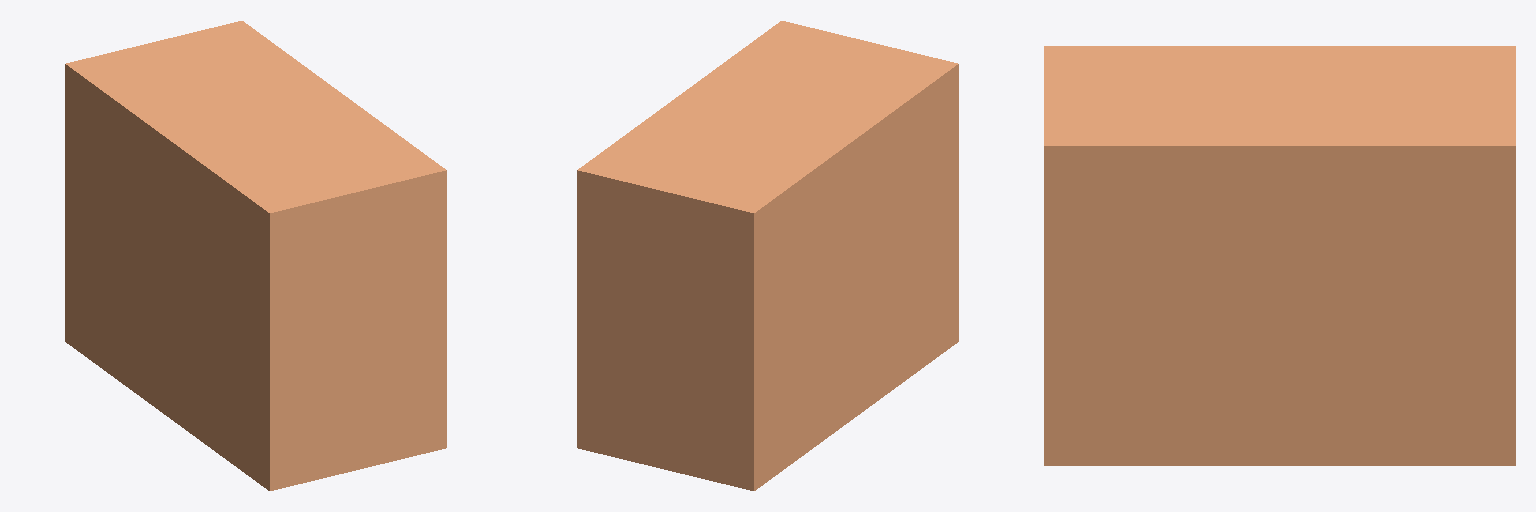
robot.urdf — montessori_object_5:
<?xml version="1.0" ?>
<robot name="montessori_object_5" version="1.0">
  <link name="montessori_object_5">
    <inertial>
      <origin xyz="0.0 0.0 0.0" rpy="0.0 0.0 0.0"/>
      <mass value="0.024000000208616257"/>
      <inertia ixx="4.999999873689376e-06" ixy="0.0" ixz="0.0" iyy="2.6000000161729986e-06" iyz="0.0" izz="3.999999989900971e-06"/>
    </inertial>
    <visual name="MontessoriObject5">
      <origin xyz="0.0 0.0 0.0" rpy="0.0 0.0 0.0"/>
      <geometry>
        <box size="0.019999999552965164 0.03999999910593033 0.029999999329447746"/>
      </geometry>
      <material name="MontessoriObject5_material">
        <color rgba="0.99 0.73 0.55 1.0"/>
      </material>
    </visual>
  </link>
</robot>

--- Render facts (derived) ---
The picture shows the robot from 3 angles, left to right: view 1: azimuth 30°, elevation 25°; view 2: azimuth 150°, elevation 25°; view 3: azimuth 270°, elevation 25°; orthographic projection.
Model montessori_object_5 with 1 links and 0 joints (none), rooted at montessori_object_5, posed all joints at 0.
Links seen in each view (by area): view 1: montessori_object_5; view 2: montessori_object_5; view 3: montessori_object_5.
Boxes of the visible links, x1,y1,x2,y2 form: montessori_object_5: [65, 21, 446, 490]; montessori_object_5: [577, 21, 958, 490]; montessori_object_5: [1044, 46, 1515, 465].
Size in the robot's own frame: 0.02 by 0.04 by 0.03 metres.
Geometry: primitives only (box / cylinder / sphere), no mesh files.